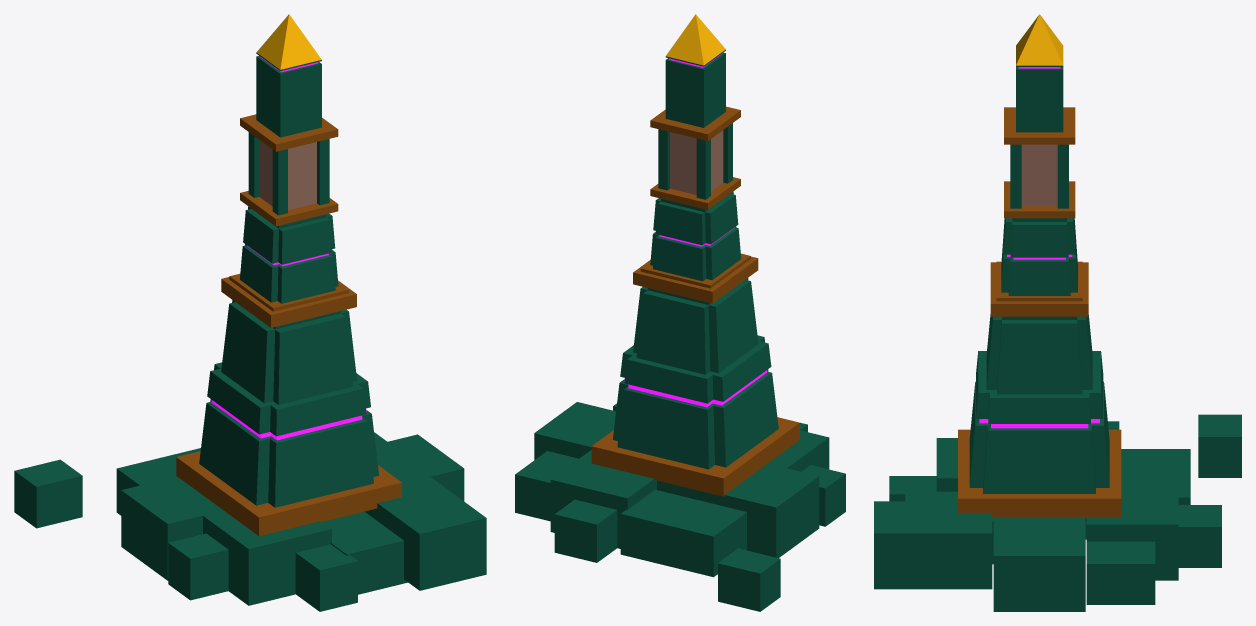
The model's file is Obelisk 1.fbx.
3 renders of one model, left to right at view 1: azimuth 30°, elevation 25°; view 2: azimuth 150°, elevation 25°; view 3: azimuth 270°, elevation 25°, orthographic. The views are drawn at different scales.
Visible parts, largest first — view 1: Cube.211; view 2: Cube.211; view 3: Cube.211.
Boxes of the visible parts, x1,y1,x2,y2 form: Cube.211: (14, 14, 486, 611); Cube.211: (515, 14, 845, 611); Cube.211: (874, 14, 1241, 611).
Bounding box in the file's own units: 17.07 × 26.73 × 16.98.
